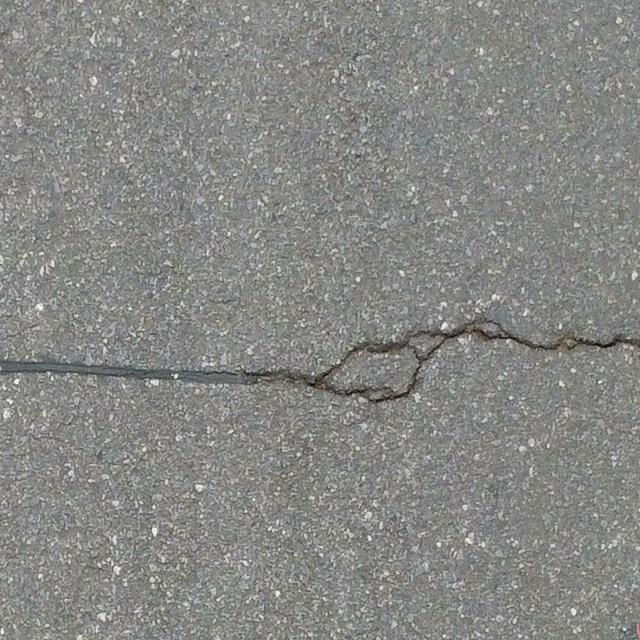TransverseCrack: (4, 318, 640, 403)
